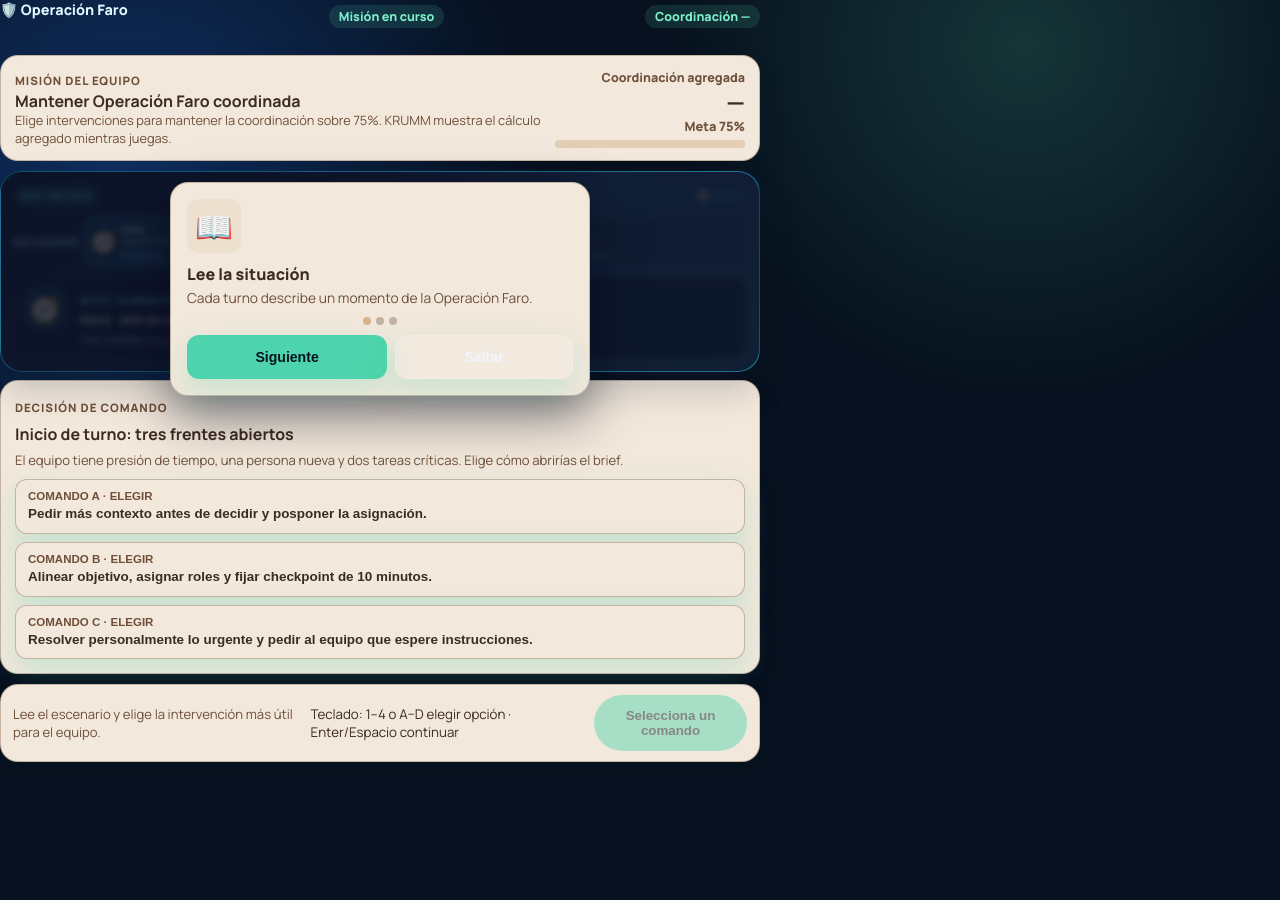
it: TeamCoordinationPostulationTask › shows the micro-intro before any stimulus and skips it without telemetry (W3)
The width and height of the screenshot is (1280, 900).
Check: the dialog with test id "game-micro-intro" is shown, box x1=170 y1=182 x2=590 y2=396
Click the button "Saltar".
click(484, 358)  # box x1=395 y1=336 x2=573 y2=380
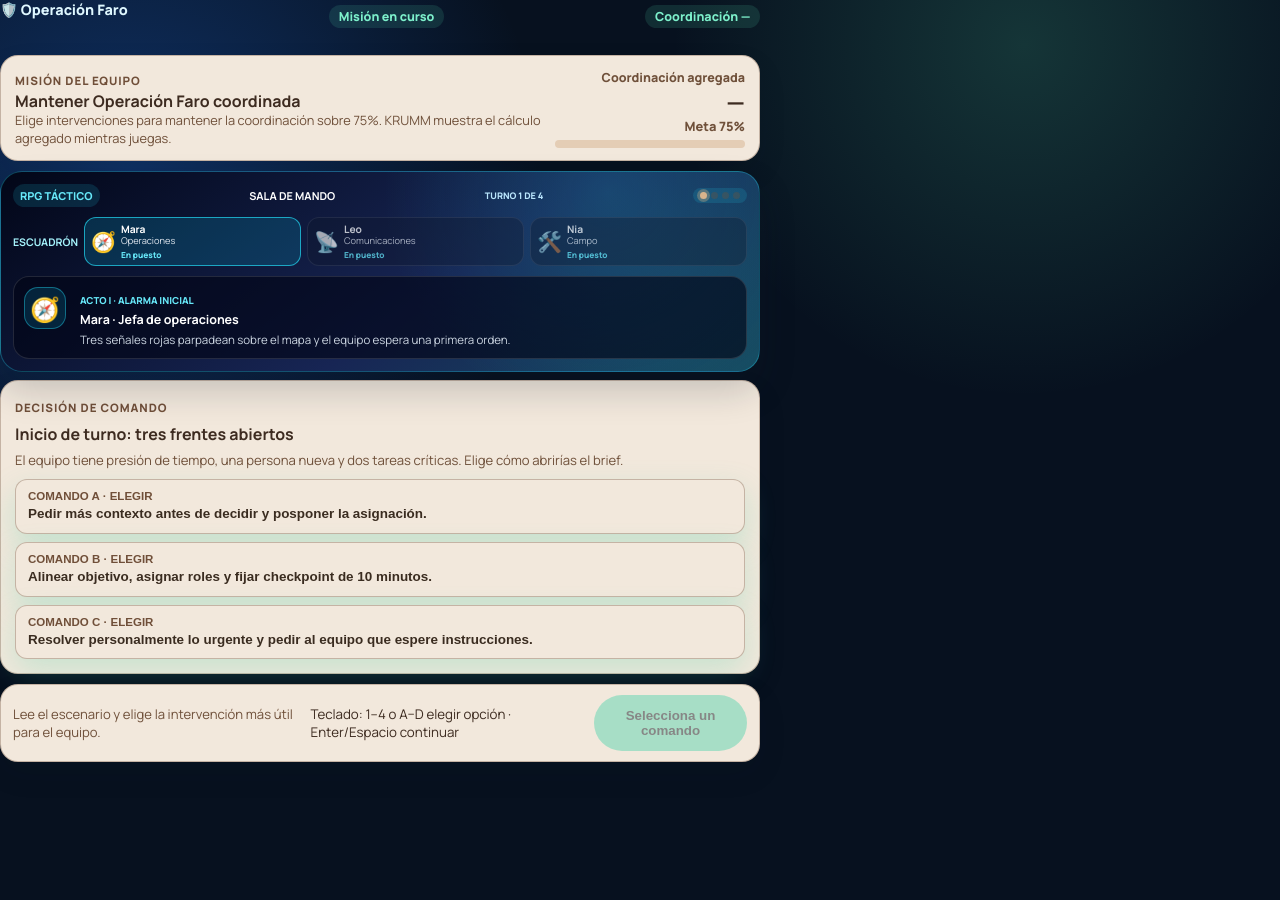
Check: the dialog with test id "game-micro-intro" is gone
